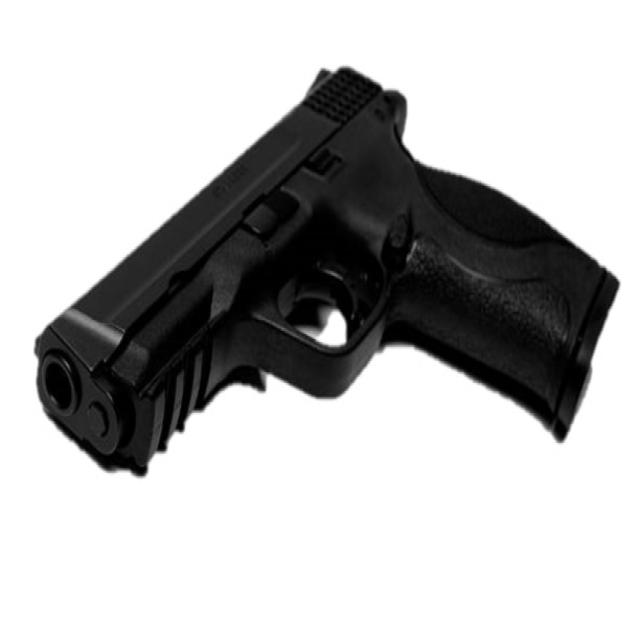pistol: (35, 66, 623, 484)
